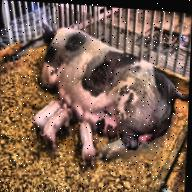boar: (33, 13, 192, 180)
